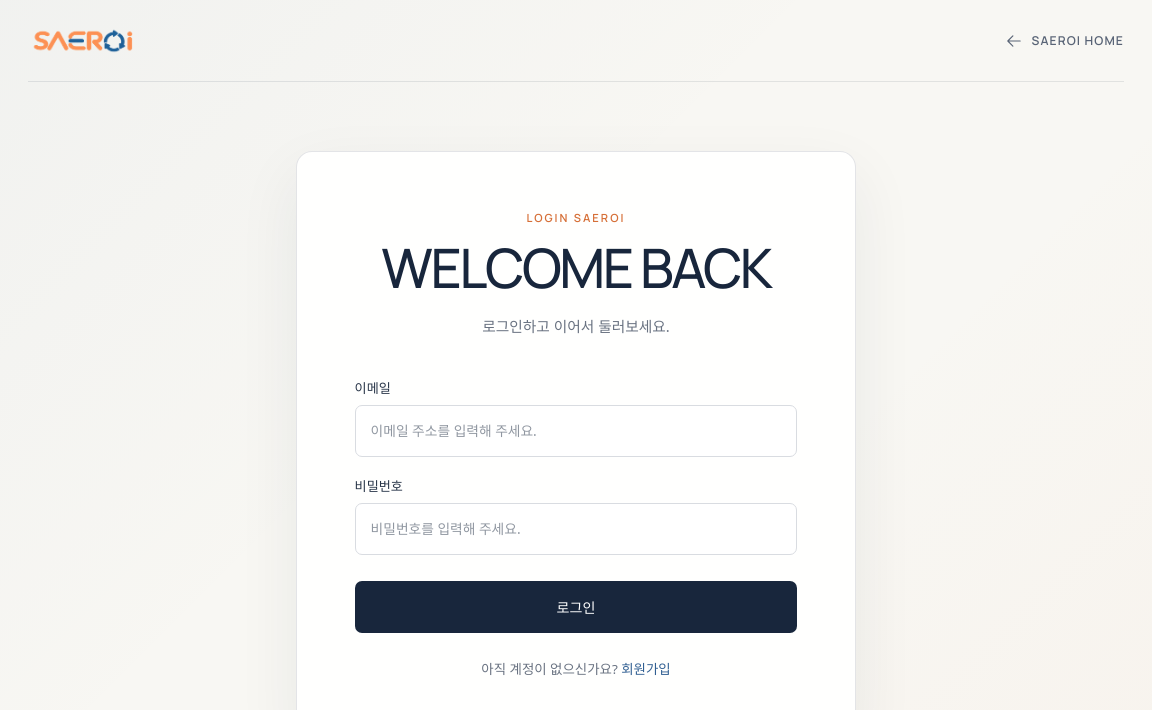
Test: LoginPage › shows required field messages before submitting an empty form
Click the button "로그인" at coordinates (576, 607), box top-left (355, 581), bottom-right (797, 633)
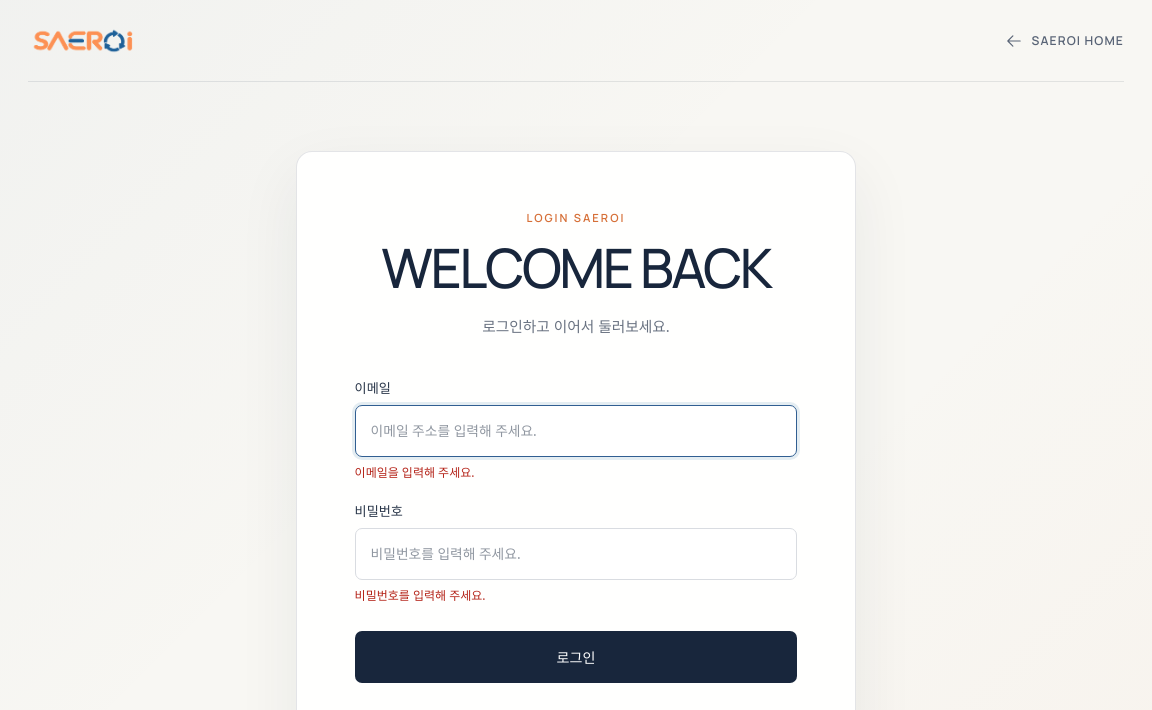
Check: the text "이메일을 입력해 주세요." is shown, box top-left (355, 464), bottom-right (474, 481)
Check: the text "비밀번호를 입력해 주세요." is shown, box top-left (355, 587), bottom-right (486, 604)
